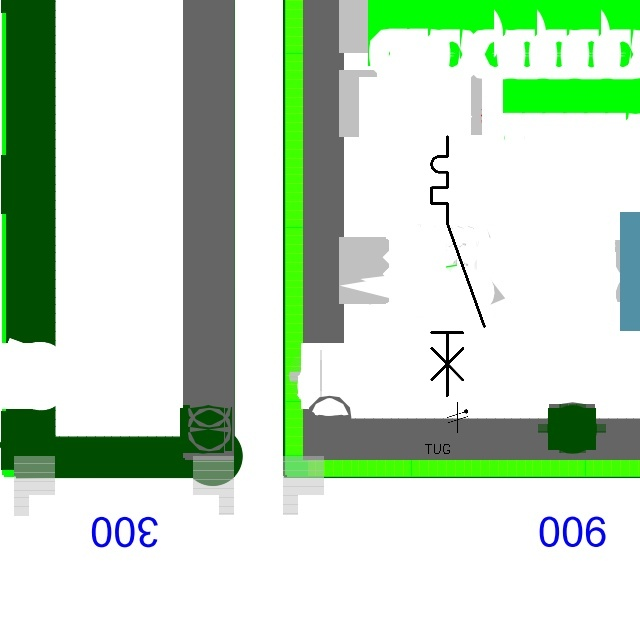interruptor_termomagnetico: (425, 130, 491, 402)
